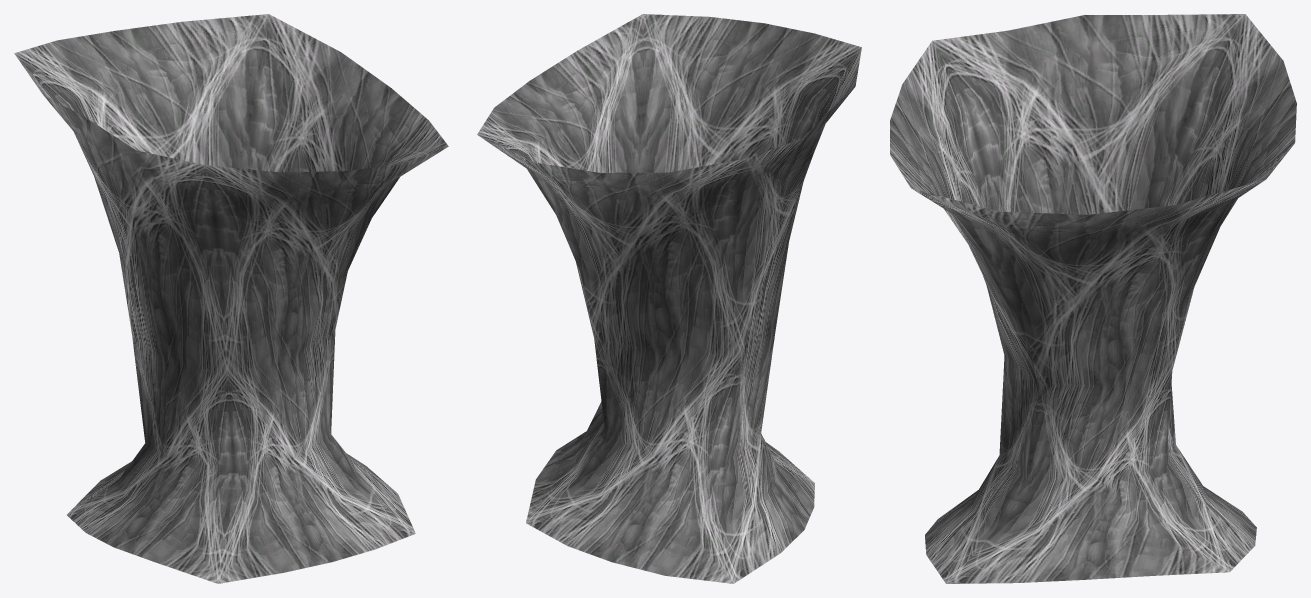
Rendered from SWORDLIGHT20_PS-AREA01_22.fbx.
The picture shows the model from 3 angles, left to right: view 1: azimuth 30°, elevation 25°; view 2: azimuth 150°, elevation 25°; view 3: azimuth 270°, elevation 25°; orthographic projection. The views are drawn at different scales.
Parts seen in each view (by area): view 1: SWORDLIGHT20_PS-AREA01_22; view 2: SWORDLIGHT20_PS-AREA01_22; view 3: SWORDLIGHT20_PS-AREA01_22.
Boxes of the visible parts, x1=… form: SWORDLIGHT20_PS-AREA01_22: x1=14, y1=14, x2=448, y2=583; SWORDLIGHT20_PS-AREA01_22: x1=477, y1=14, x2=861, y2=583; SWORDLIGHT20_PS-AREA01_22: x1=890, y1=14, x2=1296, y2=583.
Bounding box in the file's own units: 78452 × 109139 × 86694.
Materials: 1 (1 with a texture image).
